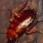cockroach: (6, 9, 35, 42)
